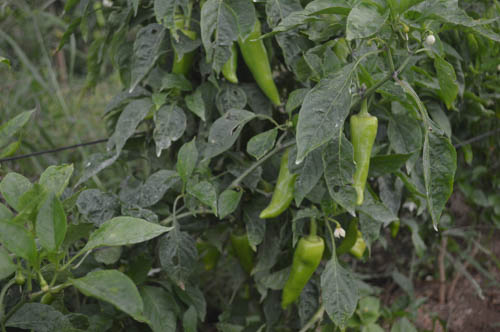ChiliPepper: (282, 239, 323, 311), (259, 150, 294, 222), (244, 34, 281, 102), (350, 117, 376, 197), (233, 233, 254, 267)
